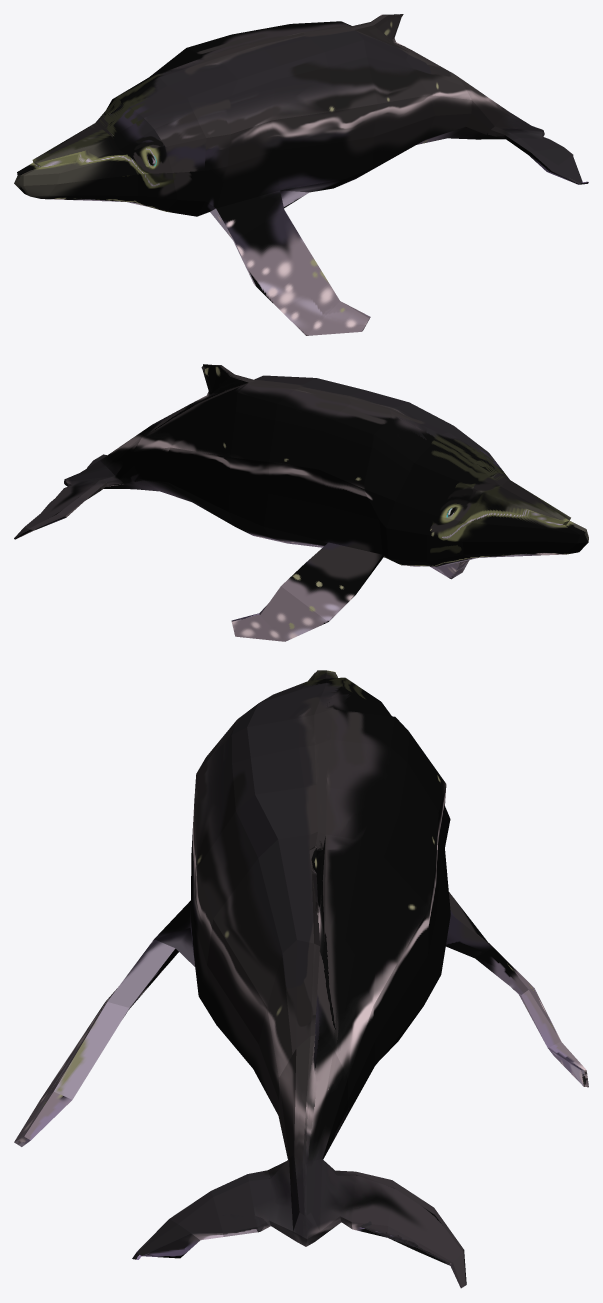
File: whale.glb
The picture shows the model from 3 angles, top to bottom: view 1: azimuth 30°, elevation 25°; view 2: azimuth 150°, elevation 25°; view 3: azimuth 270°, elevation 25°; orthographic projection. The views are drawn at different scales.
Visible parts, largest first — view 1: cubeWhale; view 2: cubeWhale; view 3: cubeWhale.
Part boxes in pixels (x1,y1,x2,y2): cubeWhale: (14, 14, 588, 335); cubeWhale: (14, 364, 588, 641); cubeWhale: (14, 670, 588, 1288).
Size of the model in its own units: 8.89 by 3.65 by 4.91.
1 material, 1 textured.
